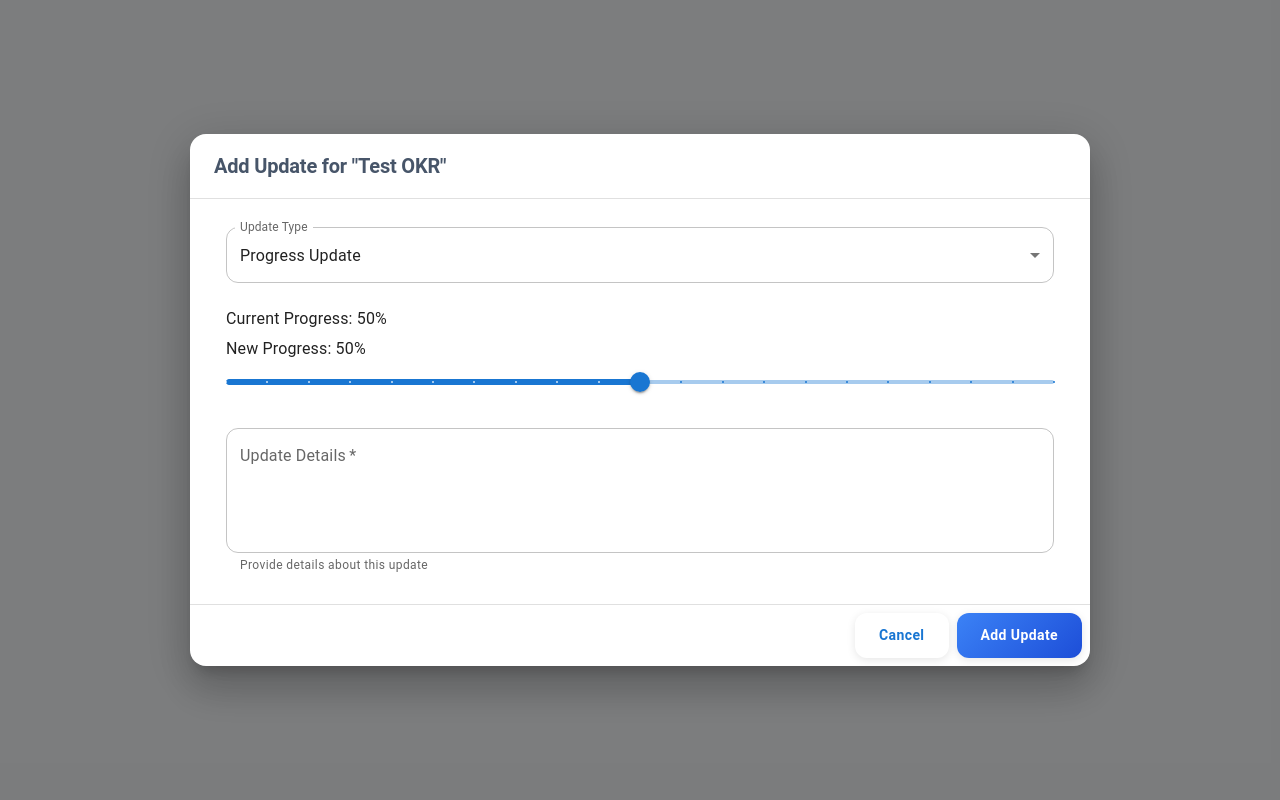
Test case: OKRUpdateForm › resets form after submission
The width and height of the screenshot is (1280, 800).
In the text box labelled "Update Details *": (640, 491) x1=240 y1=445 x2=1040 y2=537, type "Test update"
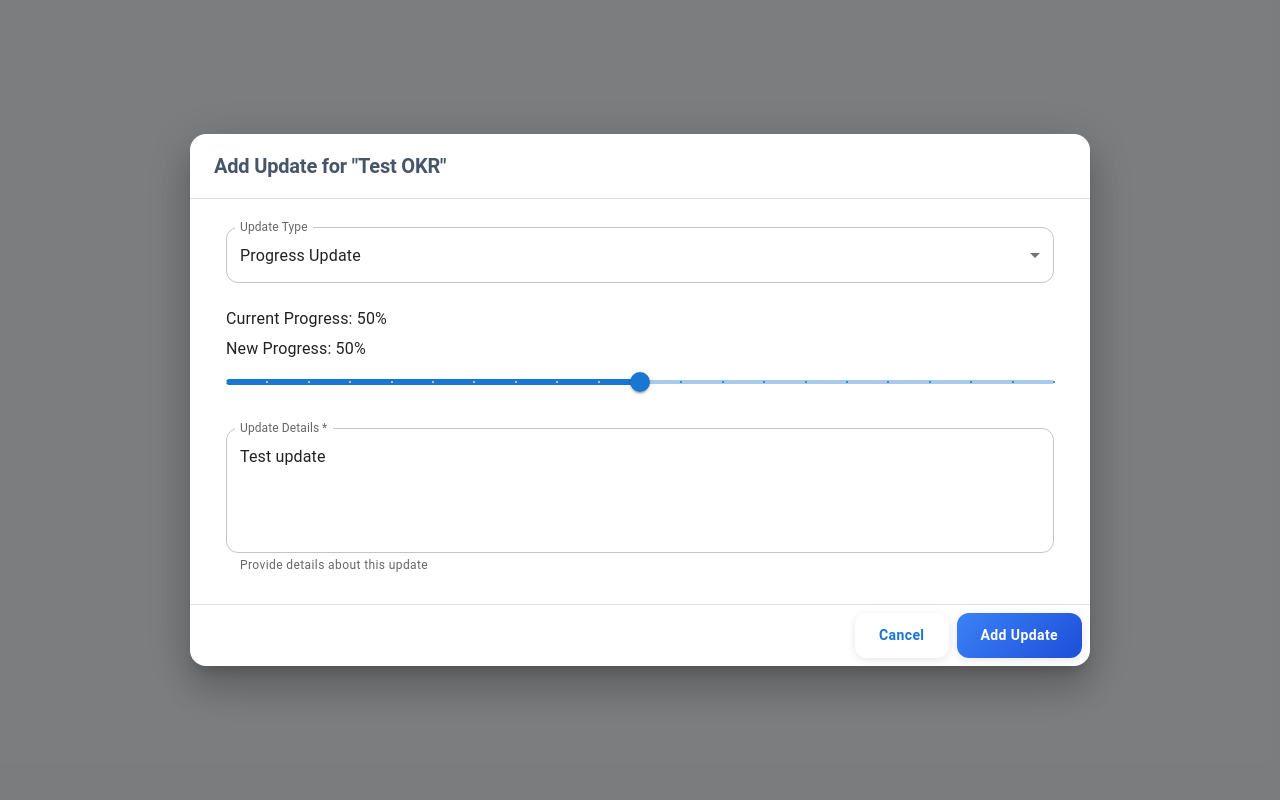
Set the slider to "75": (640, 382) x1=630 y1=372 x2=650 y2=392
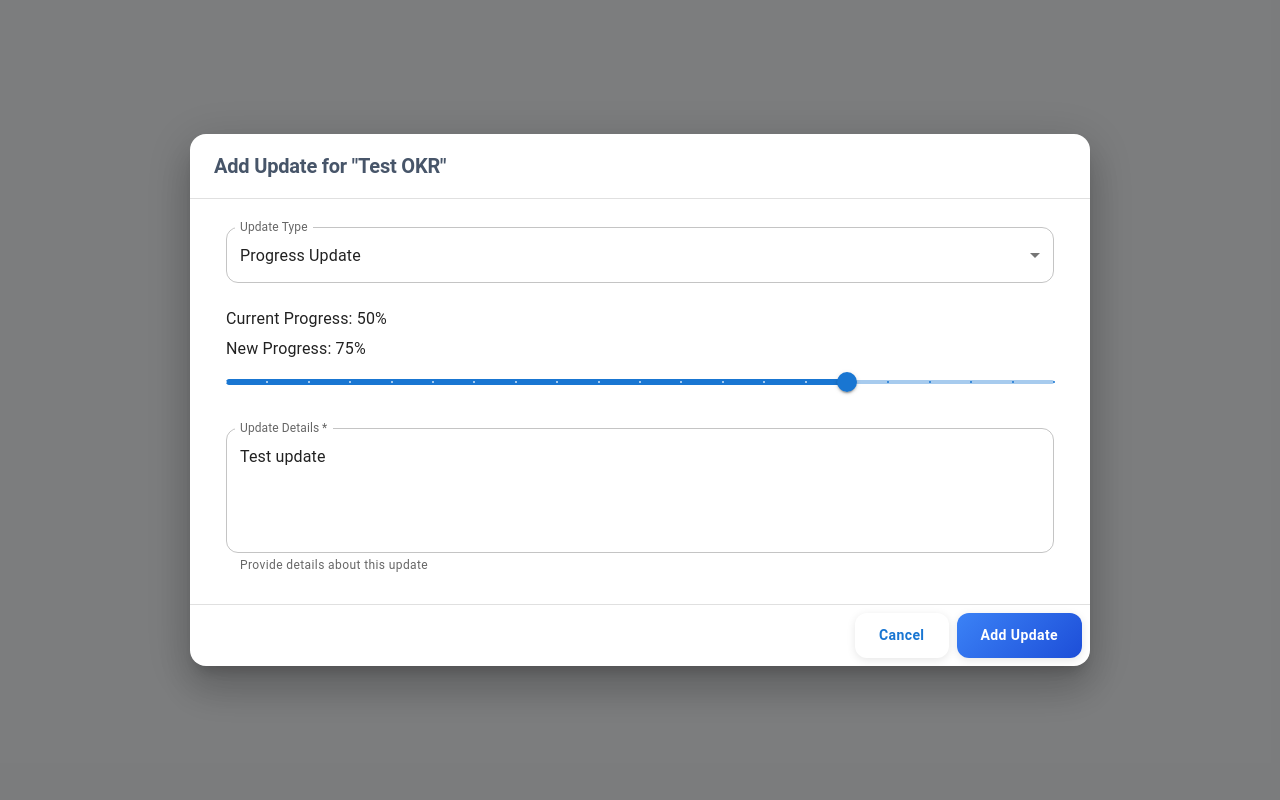
Click the button "Add Update": (1019, 635) x1=956 y1=613 x2=1082 y2=658
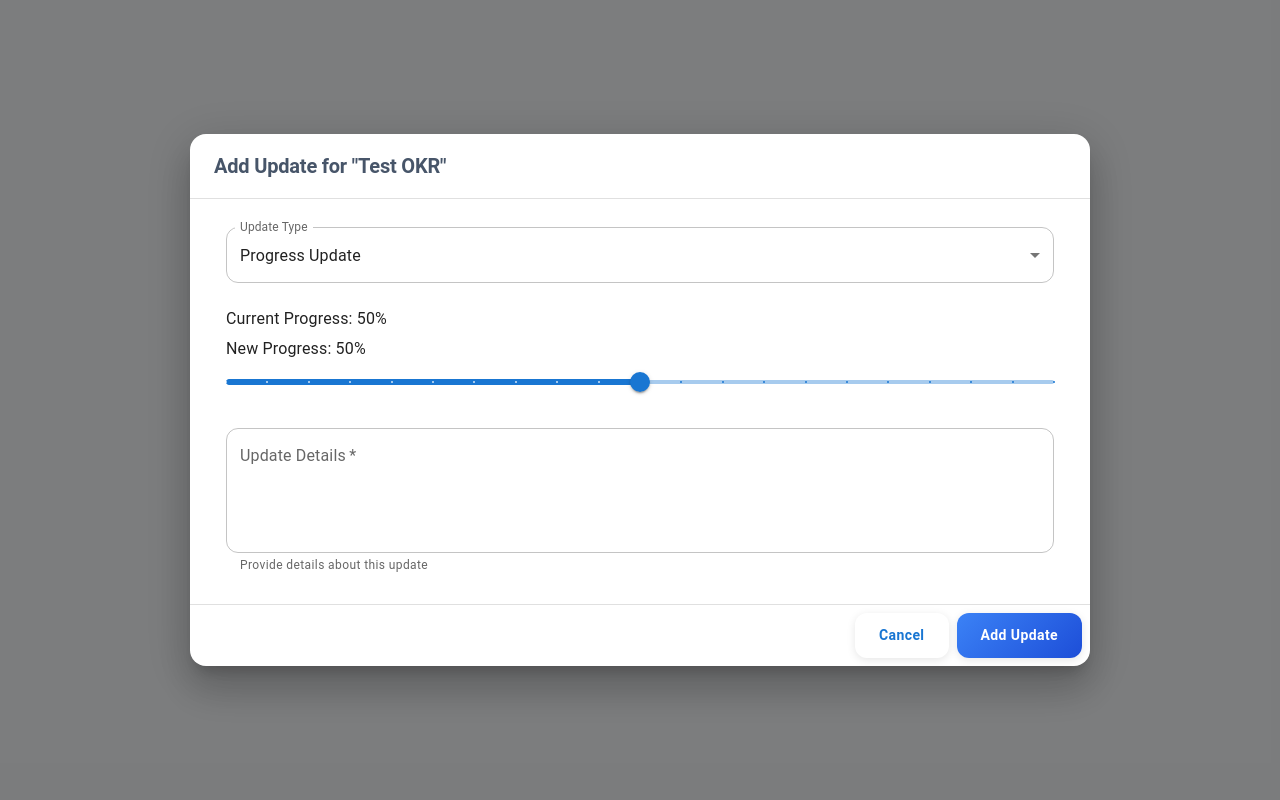
Check: the text box labelled "Update Details *" is empty, box x1=240 y1=445 x2=1040 y2=537
Check: the slider holds "50", box x1=630 y1=372 x2=650 y2=392
